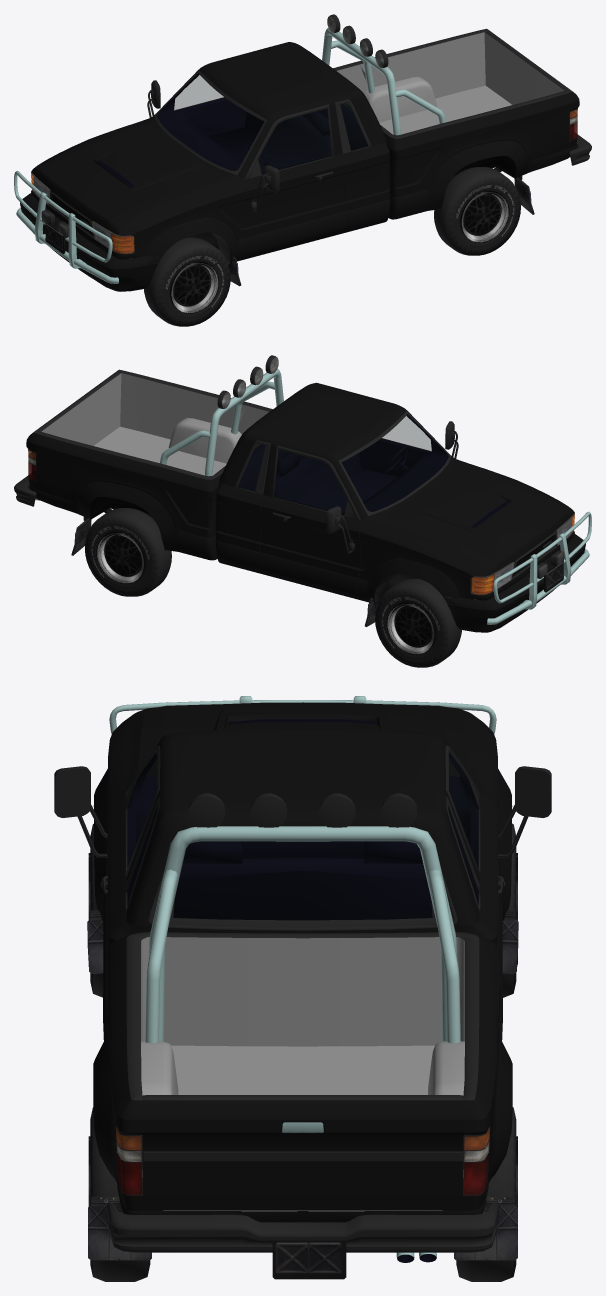
The model's file is ToyotaHilux.fbx.
The picture shows the model from 3 angles, top to bottom: view 1: azimuth 30°, elevation 25°; view 2: azimuth 150°, elevation 25°; view 3: azimuth 270°, elevation 25°; orthographic projection. The views are drawn at different scales.
Visible parts, largest first — view 1: body, hood, bottom, fenders, interior, WHEEL_02, WHEEL_01, glass, plastic_trim, trunk_door, rollcage, bumper_front_1 (+7 smaller); view 2: body, hood, bottom, fenders, interior, WHEEL_03, WHEEL_04, glass, plastic_trim, trunk_door, rollcage, bumper_front_1 (+6 smaller); view 3: body, bottom, trunk_door, interior, rollcage, bumper_rear_02, fenders, plastic_trim, hood, glass, mdflps, backlights (+6 smaller).
Part boxes in pixels (x1,y1,x2,y2): body: (152,28,579,258); hood: (38,122,221,228); bottom: (76,32,511,234); fenders: (31,115,248,264); interior: (157,73,368,174); WHEEL_02: (434,167,520,255); WHEEL_01: (144,237,230,326); glass: (174,75,367,173); plastic_trim: (147,70,371,212); trunk_door: (484,31,569,104); rollcage: (322,14,445,135); bumper_front_1: (20,193,162,291); body: (26,369,453,599); hood: (384,463,567,569); bottom: (35,373,529,575); fenders: (357,456,574,605); interior: (237,414,448,515); WHEEL_03: (85,508,171,596); WHEEL_04: (375,578,461,667); glass: (238,416,431,514); plastic_trim: (234,411,458,553); trunk_door: (36,371,121,445); rollcage: (160,355,283,476); bumper_front_1: (443,534,585,632); body: (93,727,512,1222); bottom: (141,937,464,1262); trunk_door: (142,1095,463,1210); interior: (127,753,478,920); rollcage: (145,793,460,1043); bumper_rear_02: (107,1202,498,1252); fenders: (94,705,511,921); plastic_trim: (54,745,551,911); hood: (162,702,443,736); glass: (127,753,478,927); mdflps: (87,910,518,1260); backlights: (116,1126,489,1195).
Bounding box in the file's own units: 194 × 76.07 × 84.29.
